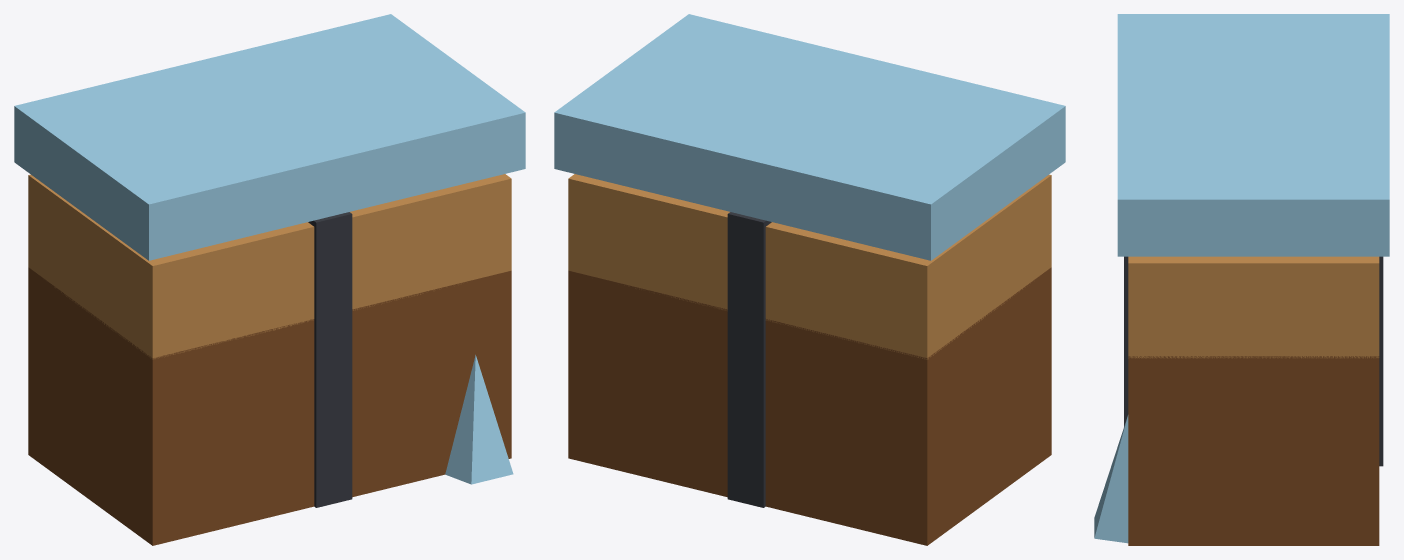
The model's file is frozen_chest.glb.
3 renders of one model, left to right at view 1: azimuth 30°, elevation 25°; view 2: azimuth 150°, elevation 25°; view 3: azimuth 270°, elevation 25°, orthographic.
Parts seen in each view (by area): view 1: frozen_chest; view 2: frozen_chest; view 3: frozen_chest.
Boxes of the visible parts, x1,y1,x2,y2 form: frozen_chest: [14, 14, 525, 545]; frozen_chest: [554, 14, 1065, 545]; frozen_chest: [1094, 14, 1389, 545].
Bounding box in the file's own units: 1.05 × 0.925 × 0.7059.
